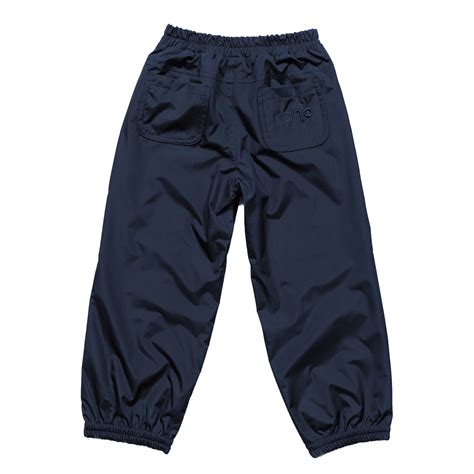nylon: (80, 24, 393, 458)
